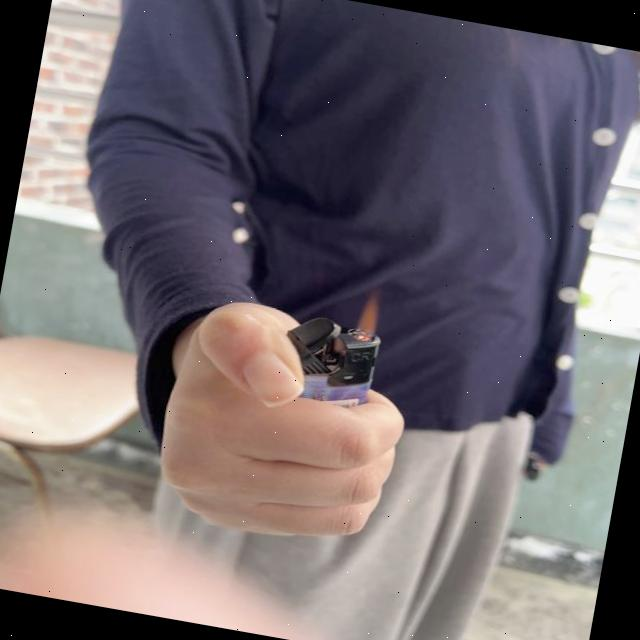fire: (349, 285, 385, 345)
